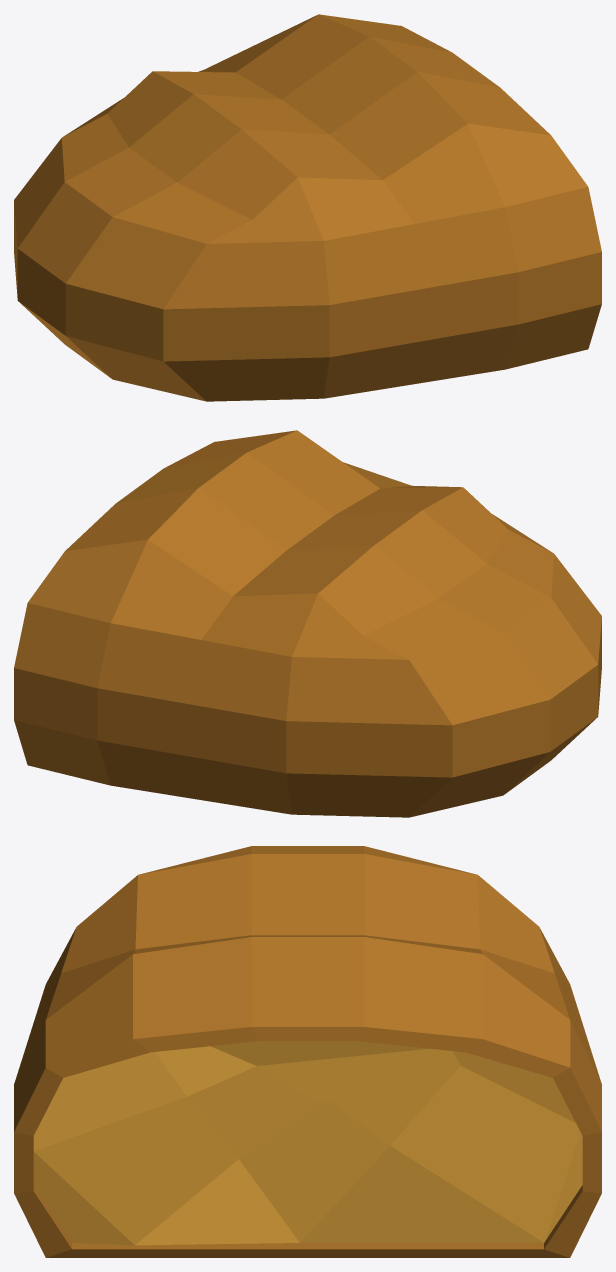
File: Хлеб (половина).fbx
The picture shows the model from 3 angles, top to bottom: view 1: azimuth 30°, elevation 25°; view 2: azimuth 150°, elevation 25°; view 3: azimuth 270°, elevation 25°; orthographic projection. The views are drawn at different scales.
Visible parts, largest first — view 1: Cube; view 2: Cube; view 3: Cube, Cube.001.
Part boxes in pixels (left/top/right/bottom): Cube: left=14, top=14, right=601, bottom=401; Cube: left=14, top=430, right=601, bottom=817; Cube: left=14, top=846, right=601, bottom=1257; Cube.001: left=33, top=1041, right=582, bottom=1245.
Bounding box in the file's own units: 201 × 103 × 200.
